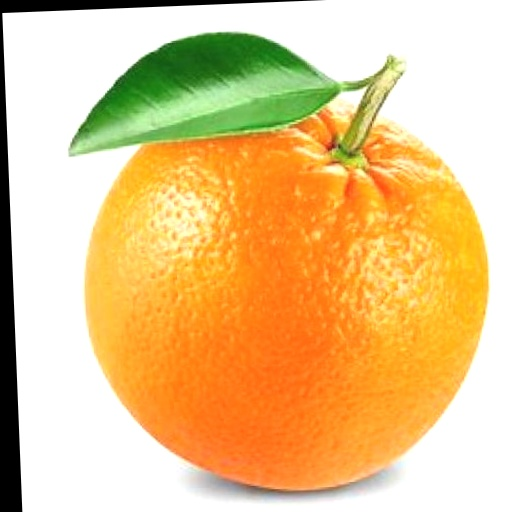fruit: (85, 102, 487, 489)
